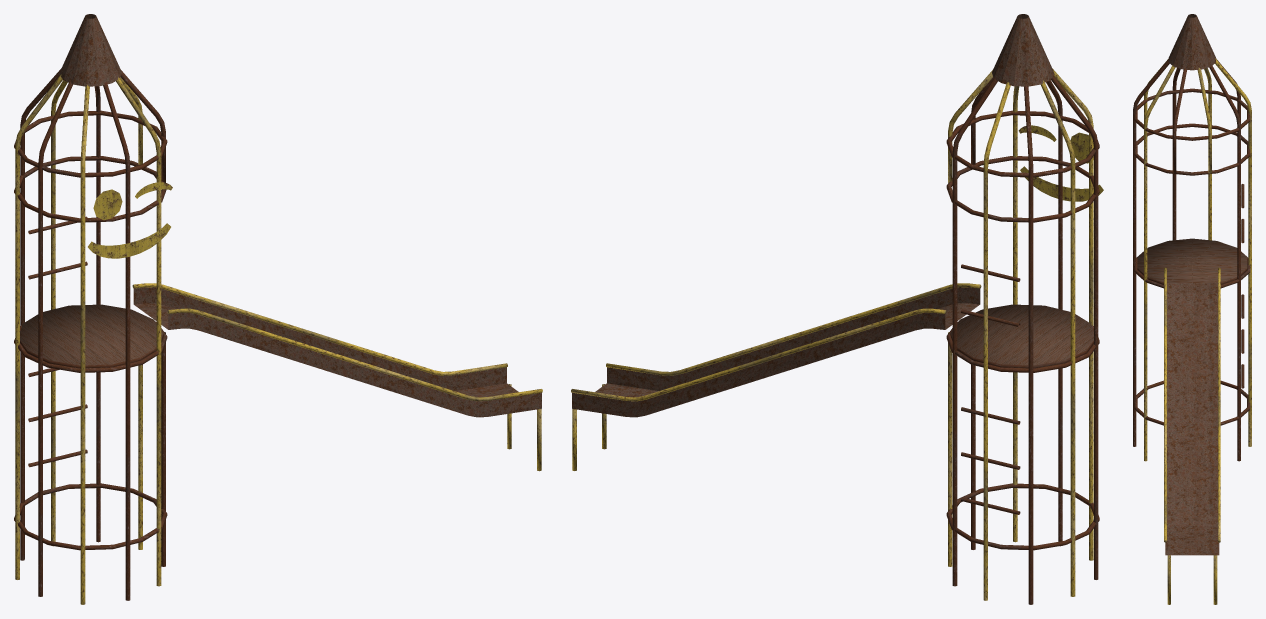
The model's file is playground_rocket_slide_lod1_web.glb.
The picture shows the model from 3 angles, left to right: view 1: azimuth 30°, elevation 25°; view 2: azimuth 150°, elevation 25°; view 3: azimuth 270°, elevation 25°; orthographic projection. The views are drawn at different scales.
Parts seen in each view (by area): view 1: RocketSlide_Mesh; view 2: RocketSlide_Mesh; view 3: RocketSlide_Mesh.
Boxes of the visible parts, x1,y1,x2,y2 form: RocketSlide_Mesh: (14,14,542,604); RocketSlide_Mesh: (571,14,1103,604); RocketSlide_Mesh: (1133,14,1251,604).
Bounding box in the file's own units: 3.5 × 3.7 × 0.9339.
4 materials, 4 textured.
